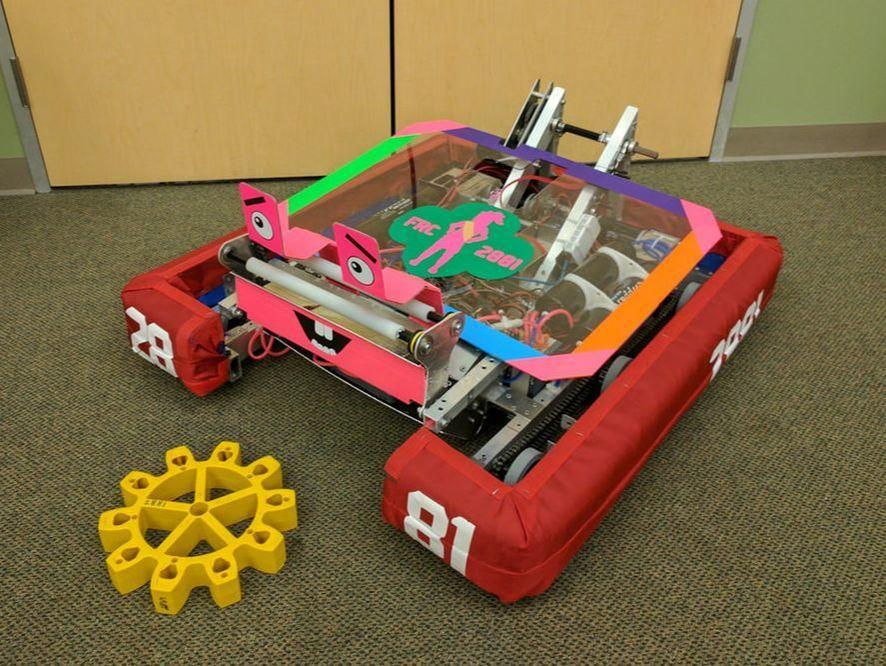robot: (111, 79, 788, 610)
